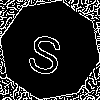S: (25, 25, 67, 77)
